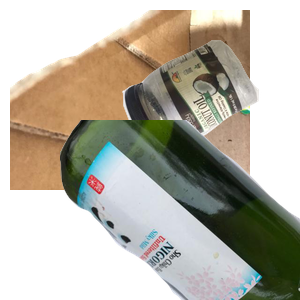cardboard: (10, 10, 250, 190)
glass: (60, 120, 300, 300)
plastic: (120, 37, 300, 185)
trash: (88, 177, 251, 300)
